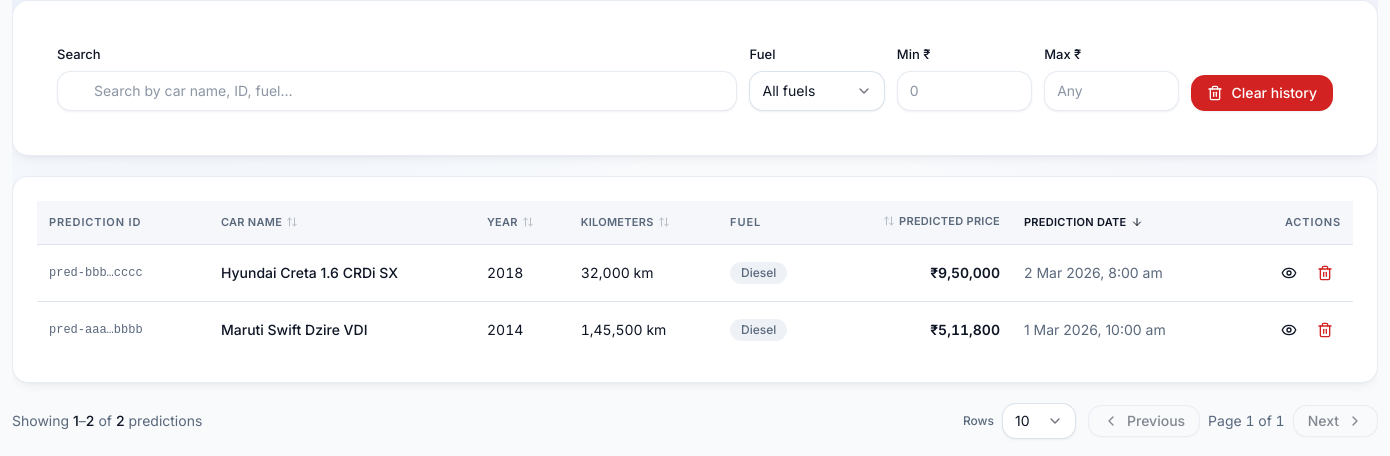
Scenario: search and filters › sends the min-price filter to the API
Check: the text "Maruti Swift Dzire VDI" is shown, box [209, 302, 475, 358]
Type "900000" into the number field labelled "Min ₹" at coordinates (964, 90), box [897, 70, 1032, 110]
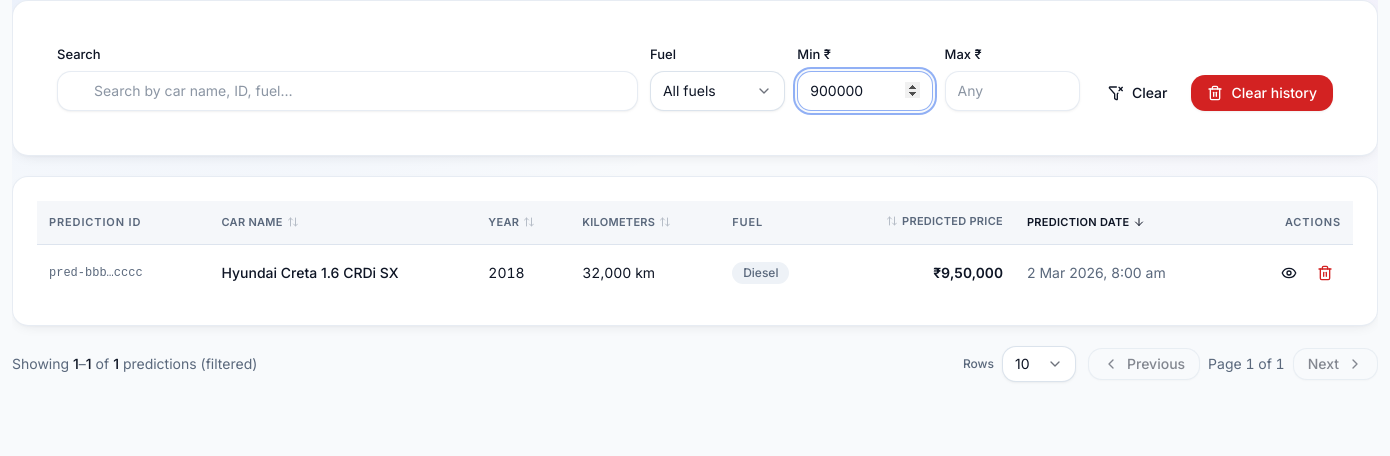
Check: the text "Hyundai Creta 1.6 CRDi SX" is shown, box [210, 244, 476, 301]
Check: the text "Maruti Swift Dzire VDI" is gone
